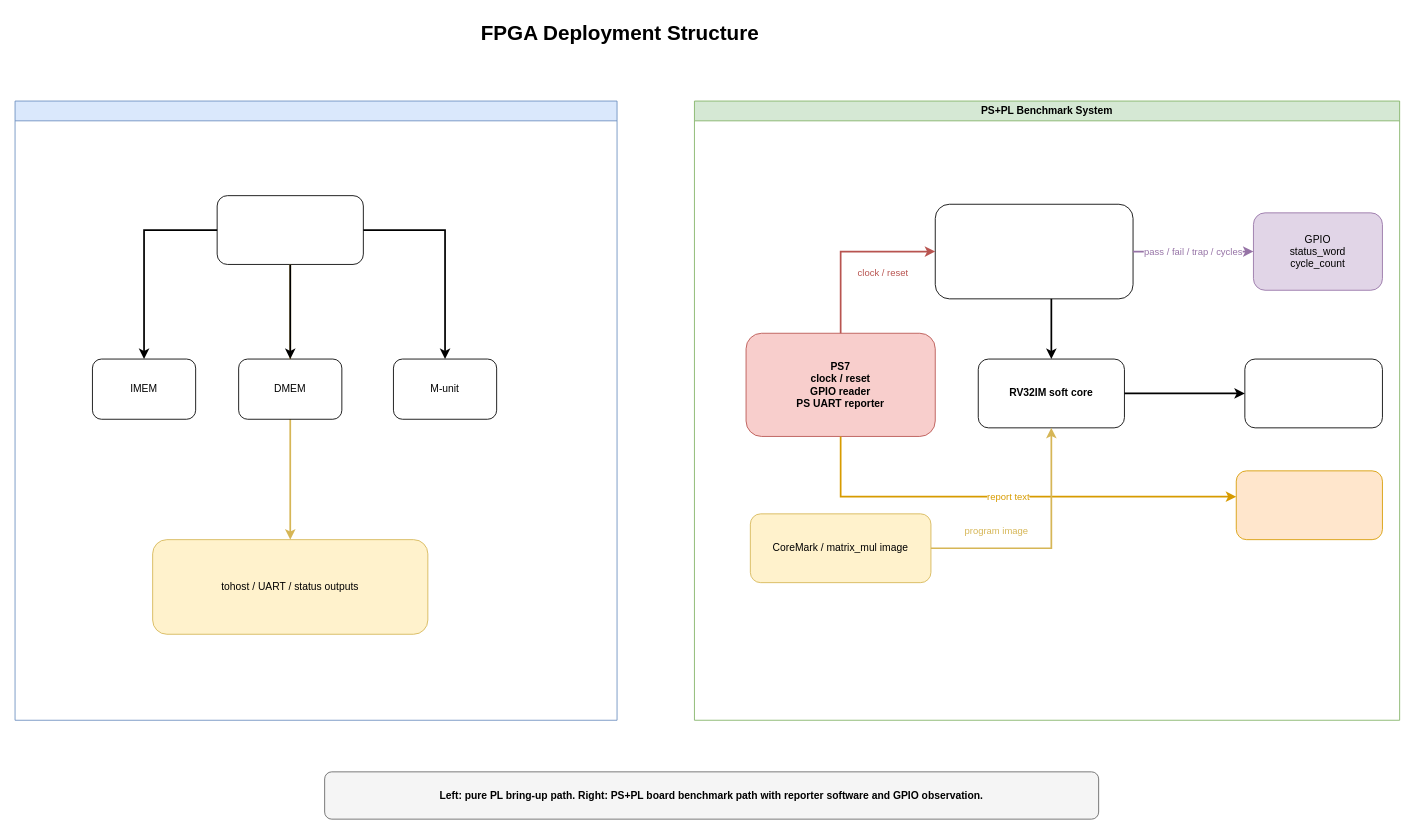
Some shapes in this 1415 by 834 pixel diagram are drawn without their labels. The shapes that lost their labels are listed below. From the top down, each one's box as (x1, y1, x2, y2) in pixels, then its label:
(216, 195, 363, 264): RV32IM CPU
(934, 203, 1133, 299): PL benchmark wrapper pass / fail / trap / cycle stats
(14, 100, 617, 720): Pure PL Low-Power Core
(1244, 358, 1382, 428): PL IMEM / DMEM
(1235, 470, 1382, 540): PS UART benchmark result output
